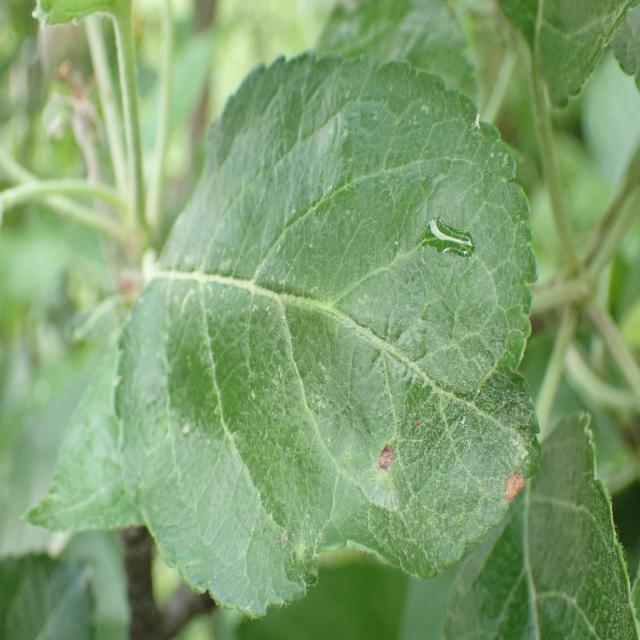Black Rot: (480, 456, 533, 506), (370, 425, 397, 494)
